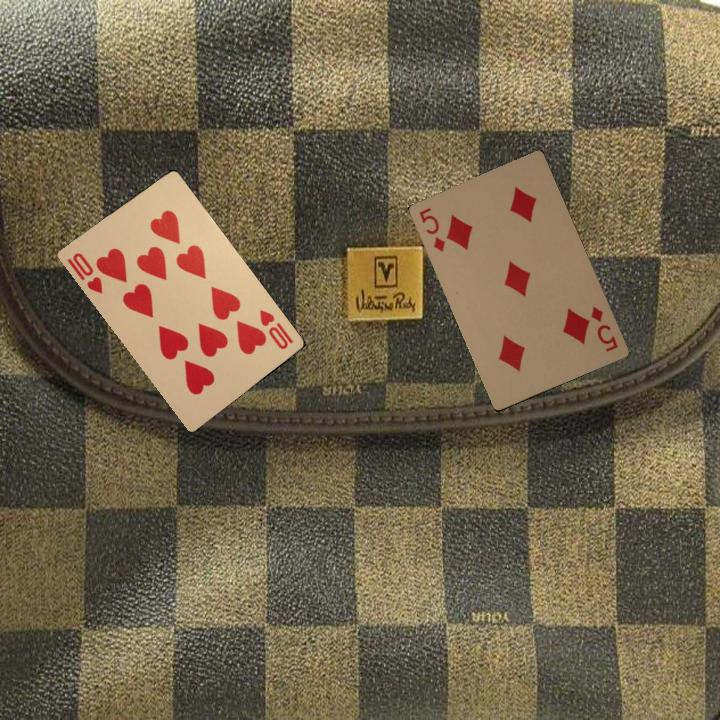10h: (63, 248, 105, 296), (255, 305, 296, 352)
5d: (587, 302, 621, 354), (415, 203, 448, 255)
